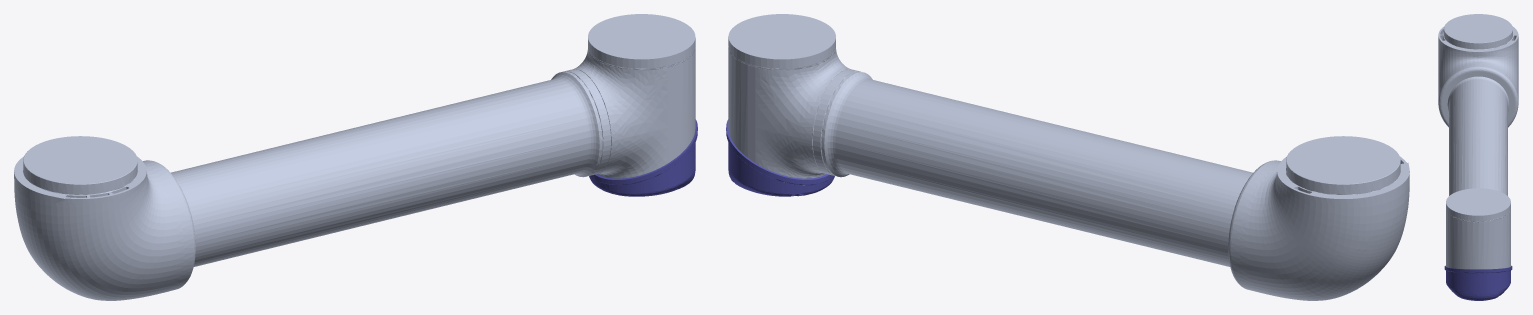
3 views of the same model, side by side, from view 1: azimuth 30°, elevation 25°; view 2: azimuth 150°, elevation 25°; view 3: azimuth 270°, elevation 25° (orthographic). The views are drawn at different scales.
Visible parts, largest first — view 1: link3; view 2: link3; view 3: link3.
Part boxes in pixels (left/top/right/bottom): link3: left=14, top=14, right=697, bottom=300; link3: left=726, top=14, right=1409, bottom=300; link3: left=1438, top=14, right=1518, bottom=300.
Size of the model in its own units: 0.673 by 0.116 by 0.1567.
